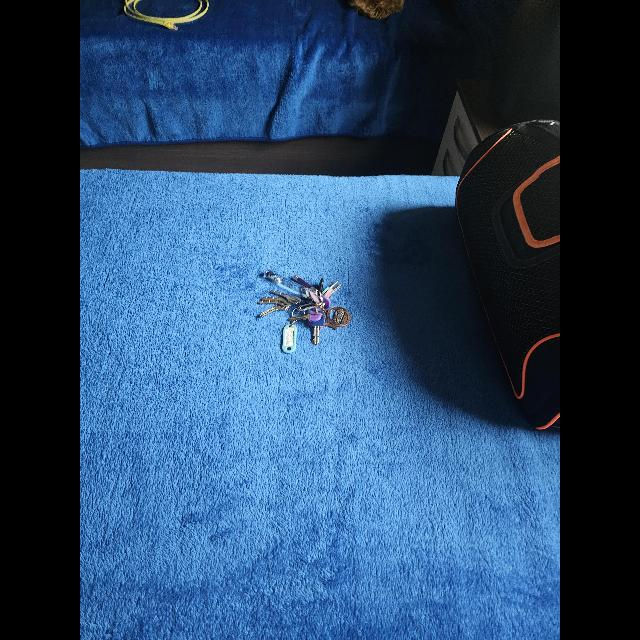Keys: (257, 272, 355, 348)
